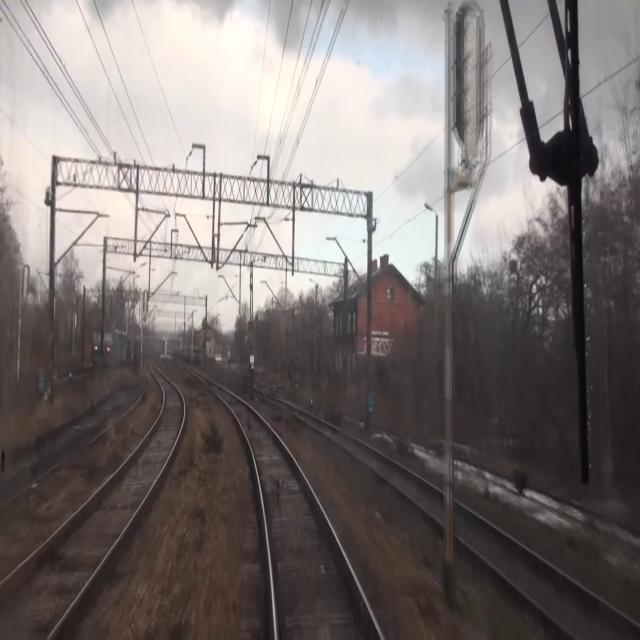rail-track: (0, 362, 182, 639), (212, 385, 379, 639), (453, 504, 640, 639), (292, 411, 443, 519)
